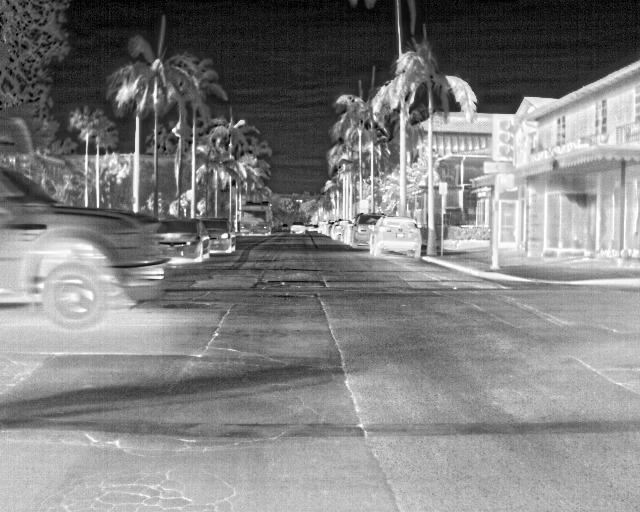car: (369, 216, 424, 259), (163, 218, 207, 264), (203, 217, 238, 254), (350, 213, 381, 249), (330, 219, 352, 242), (289, 219, 306, 234), (317, 219, 333, 234), (310, 222, 320, 230), (282, 222, 290, 230)
